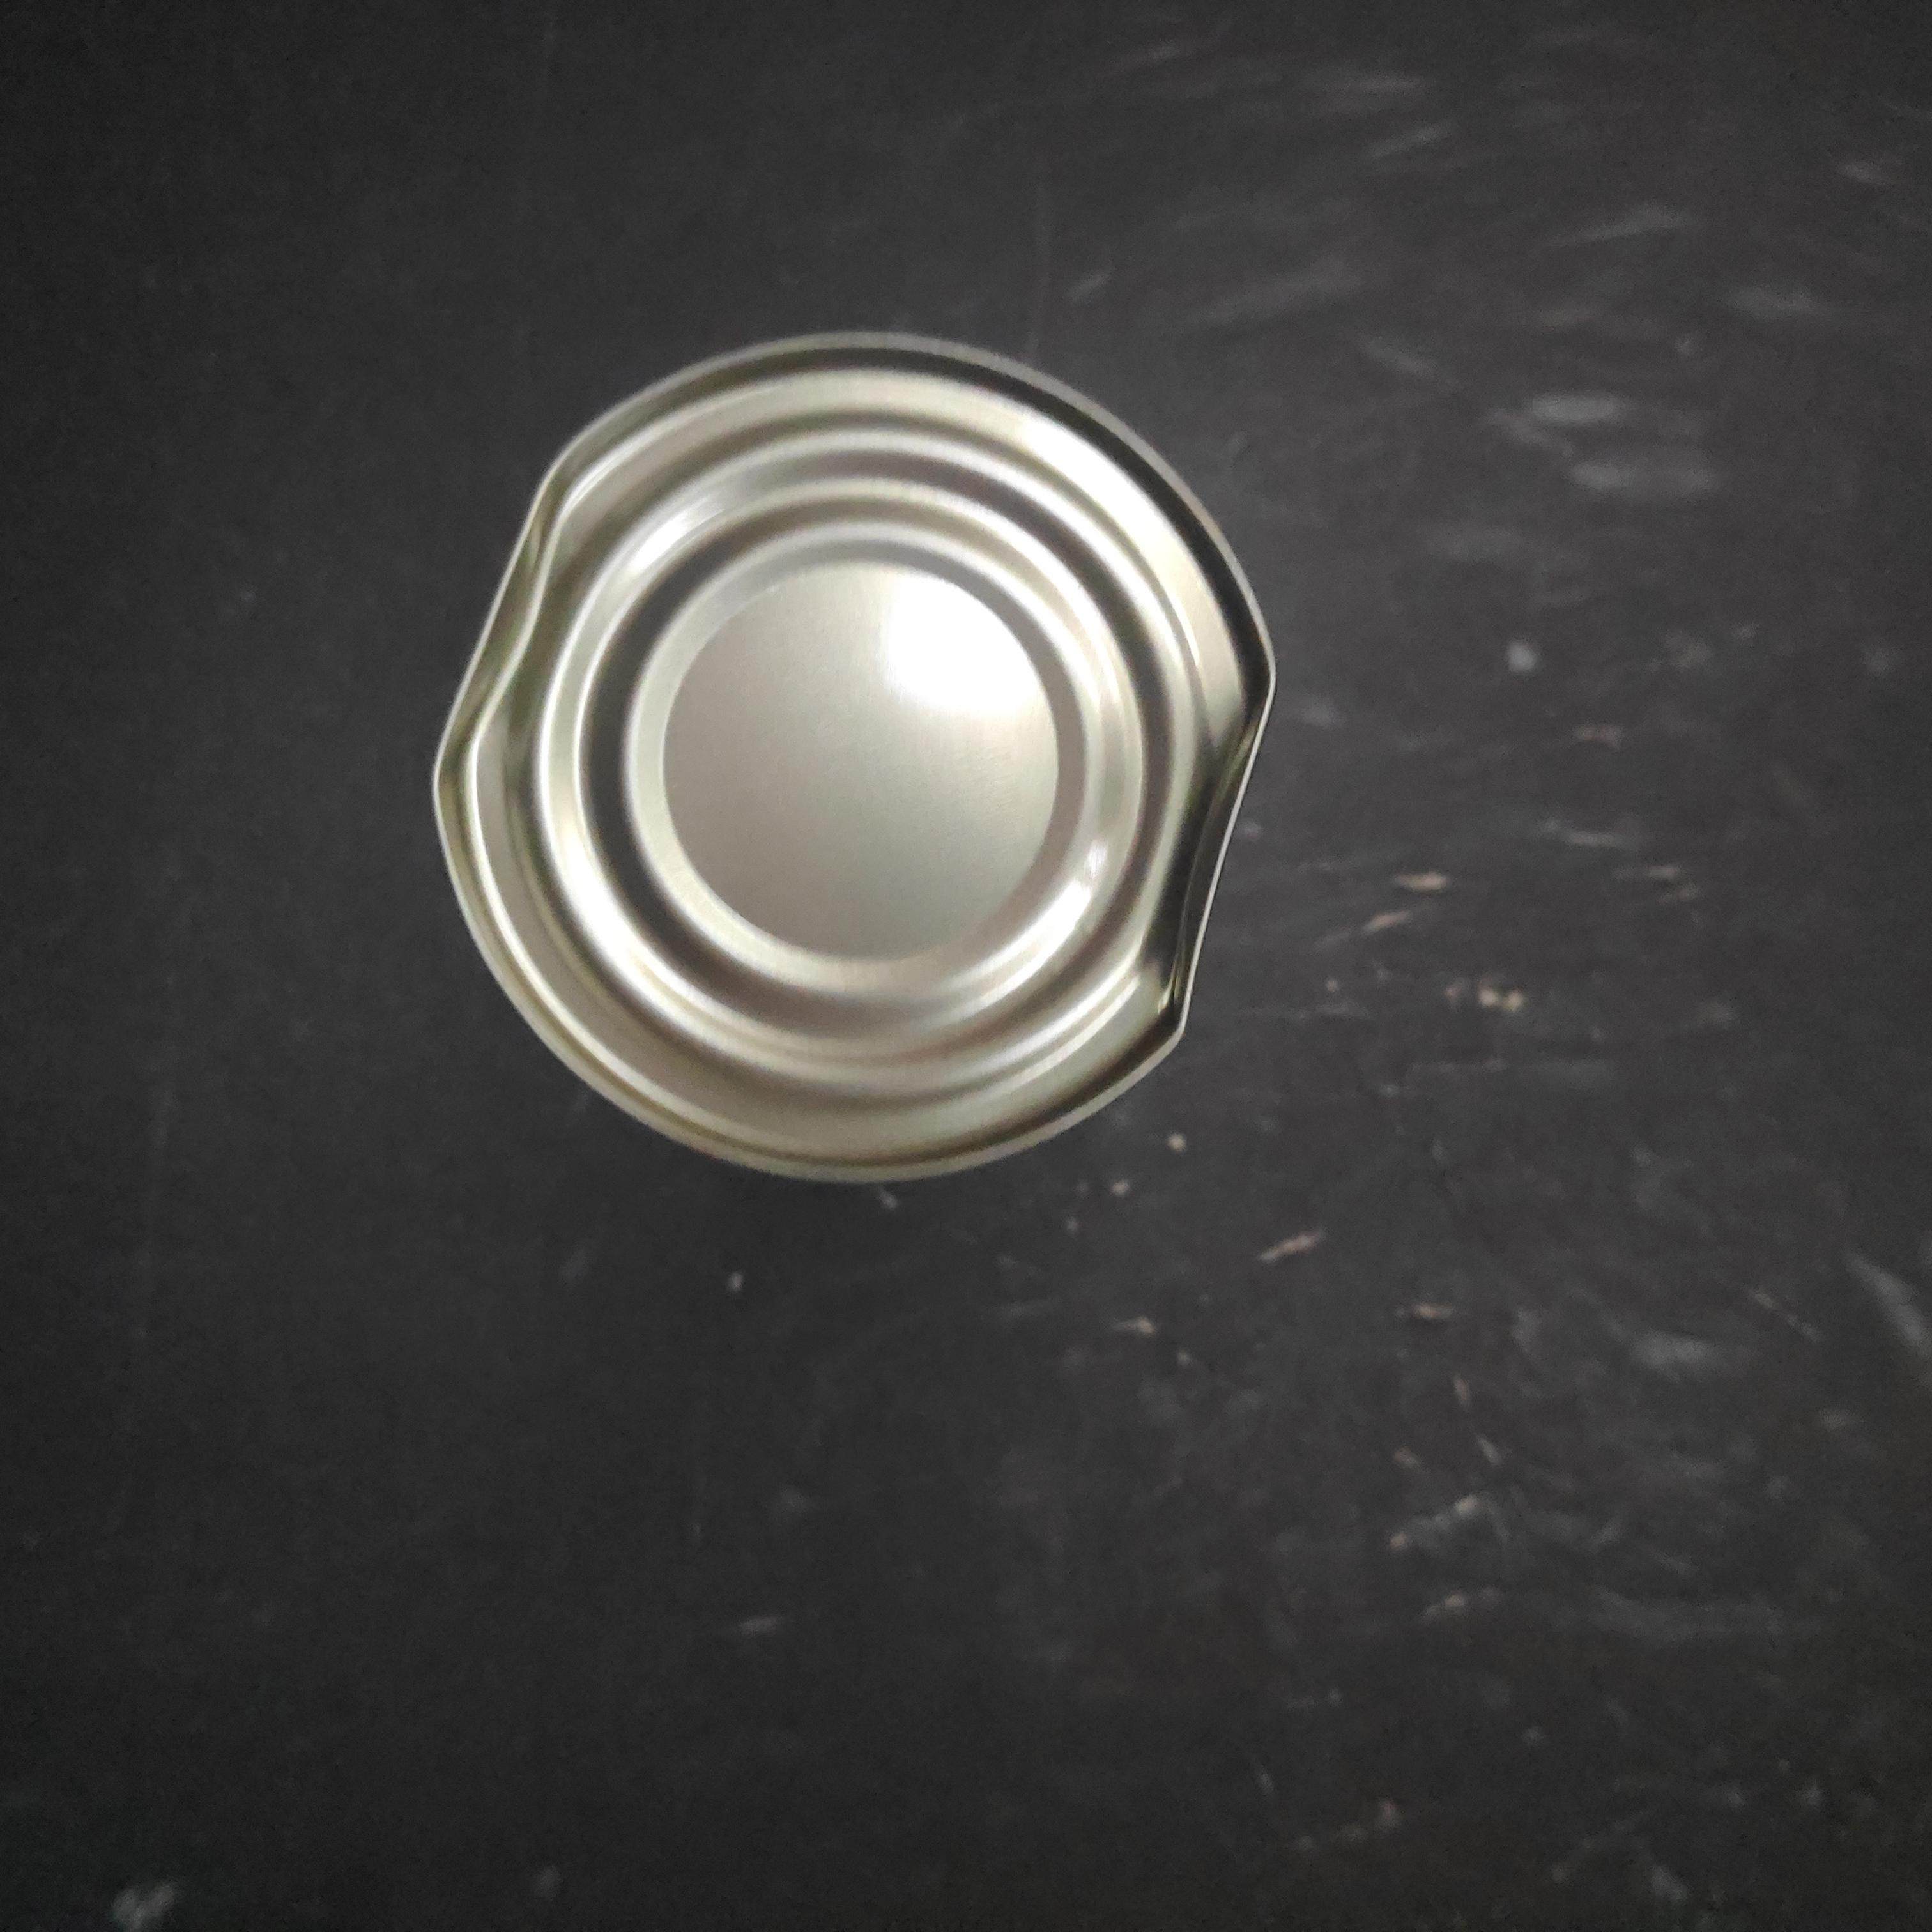Minor Defect: (653, 738, 1518, 1612)
